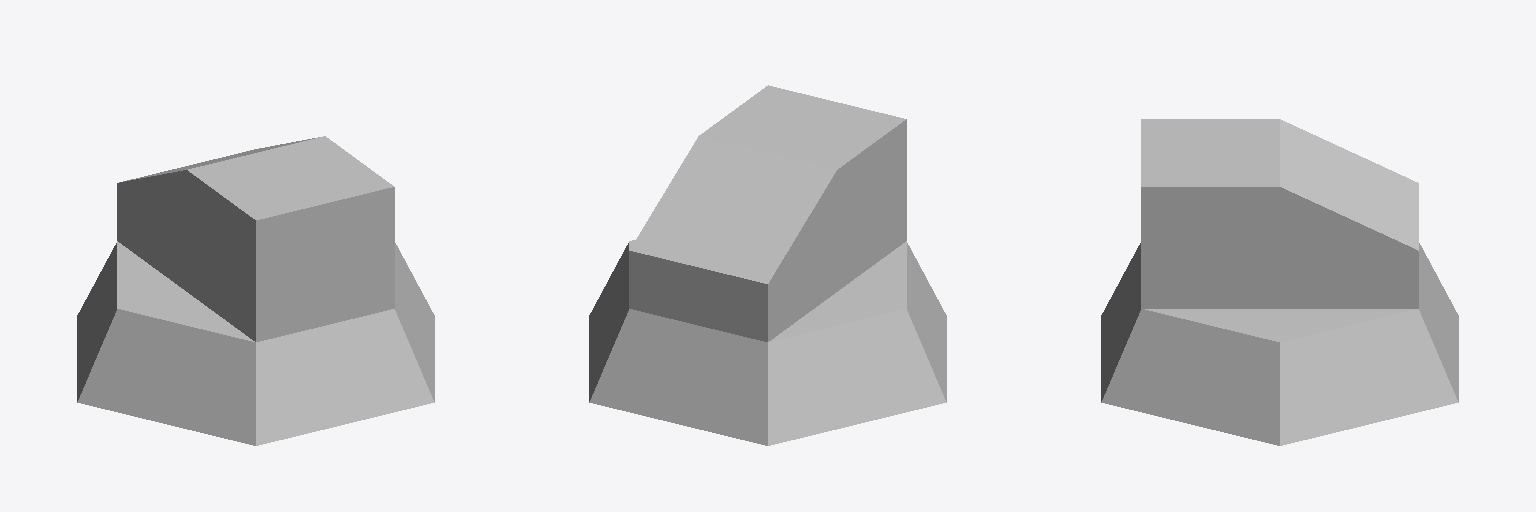
File: radarturm1.obj
The picture shows the model from 3 angles: view 1: azimuth 30°, elevation 25°; view 2: azimuth 150°, elevation 25°; view 3: azimuth 270°, elevation 25°; orthographic projection.
Parts seen in each view (by area): view 1: cube2_sep94; view 2: cube2_sep94; view 3: cube2_sep94.
Boxes of the visible parts, x1=… form: cube2_sep94: x1=77, y1=136, x2=434, y2=445; cube2_sep94: x1=589, y1=85, x2=946, y2=445; cube2_sep94: x1=1101, y1=119, x2=1458, y2=445.
Size of the model in its own units: 4.3 by 2.37 by 3.73.